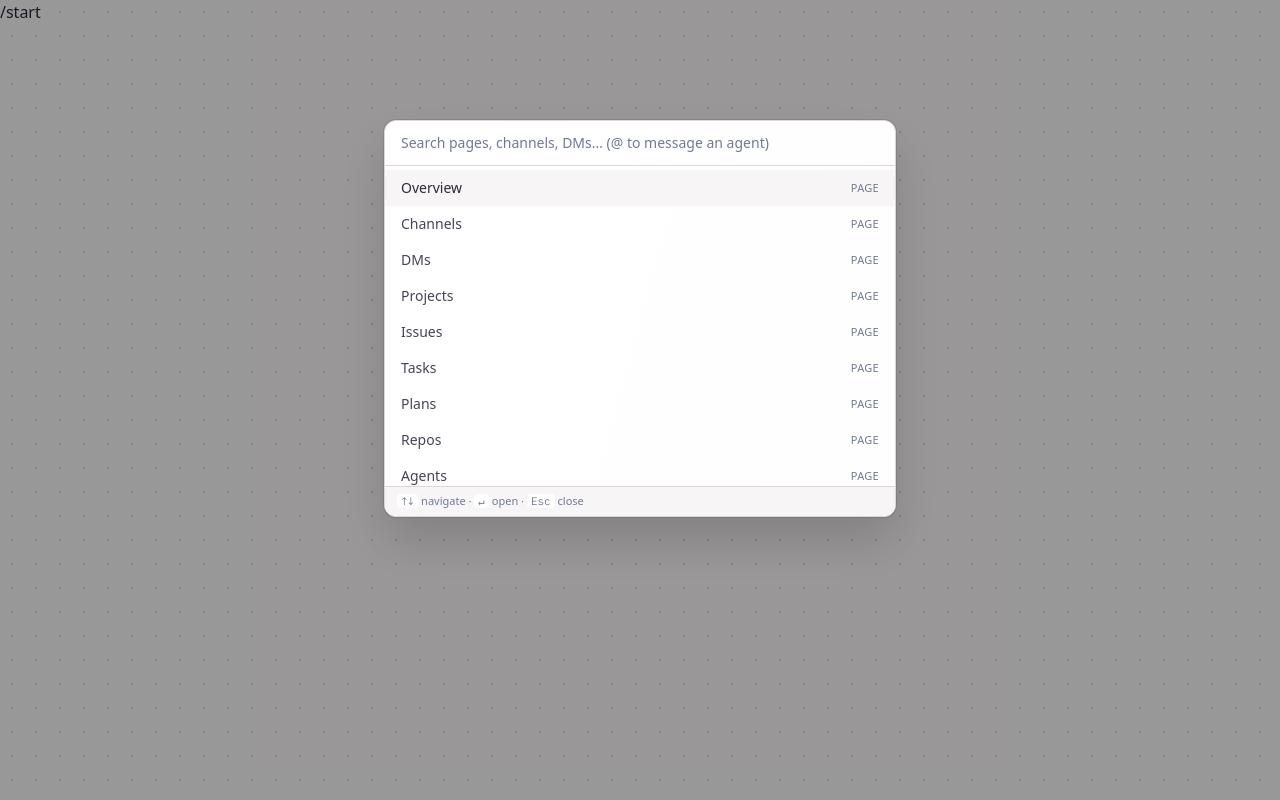
Test: CommandPalette org-scoped navigation (v2.8.1 fix) › leaves the path unchanged when there is no org context (orgPath no-op)
Type "channels" into the field with test id "palette-input". click: (640, 144)
box: [385,121,895,166]
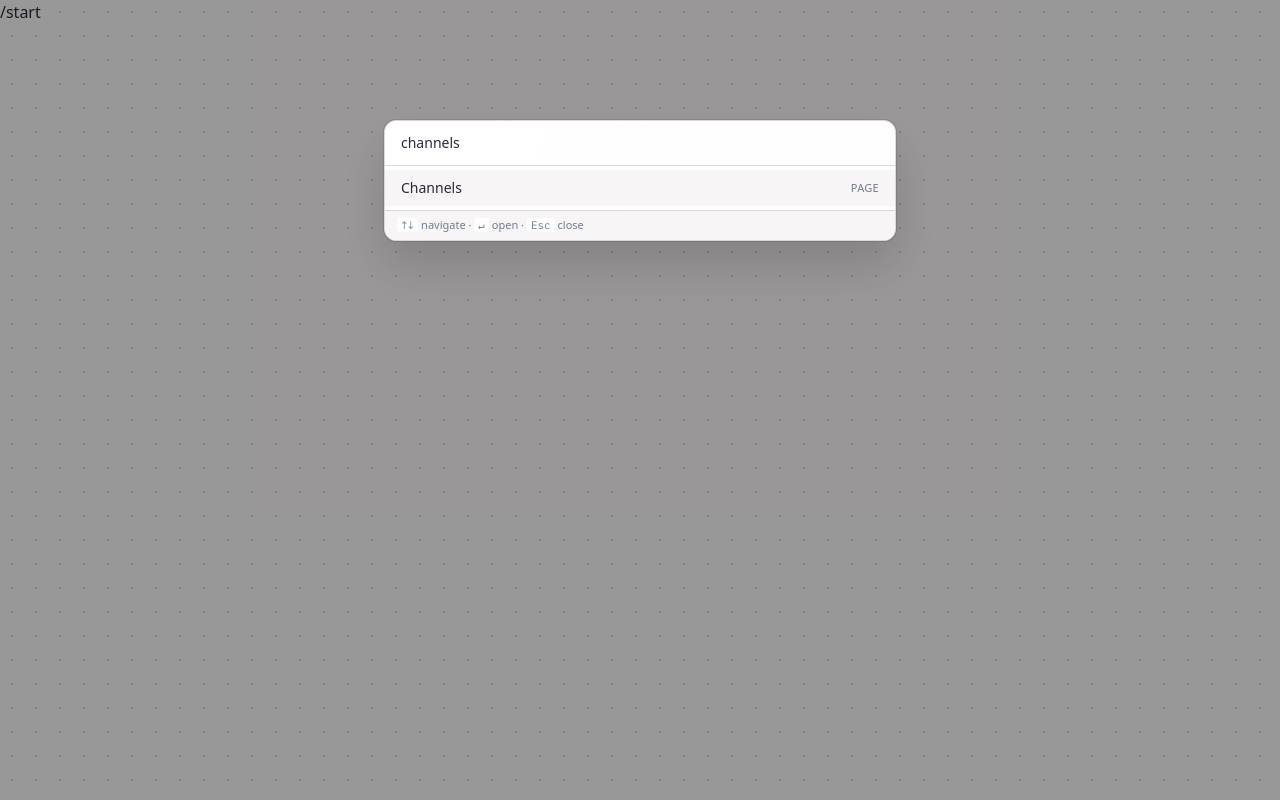
Press Enter in the field with test id "palette-input", box [385,121,895,166]
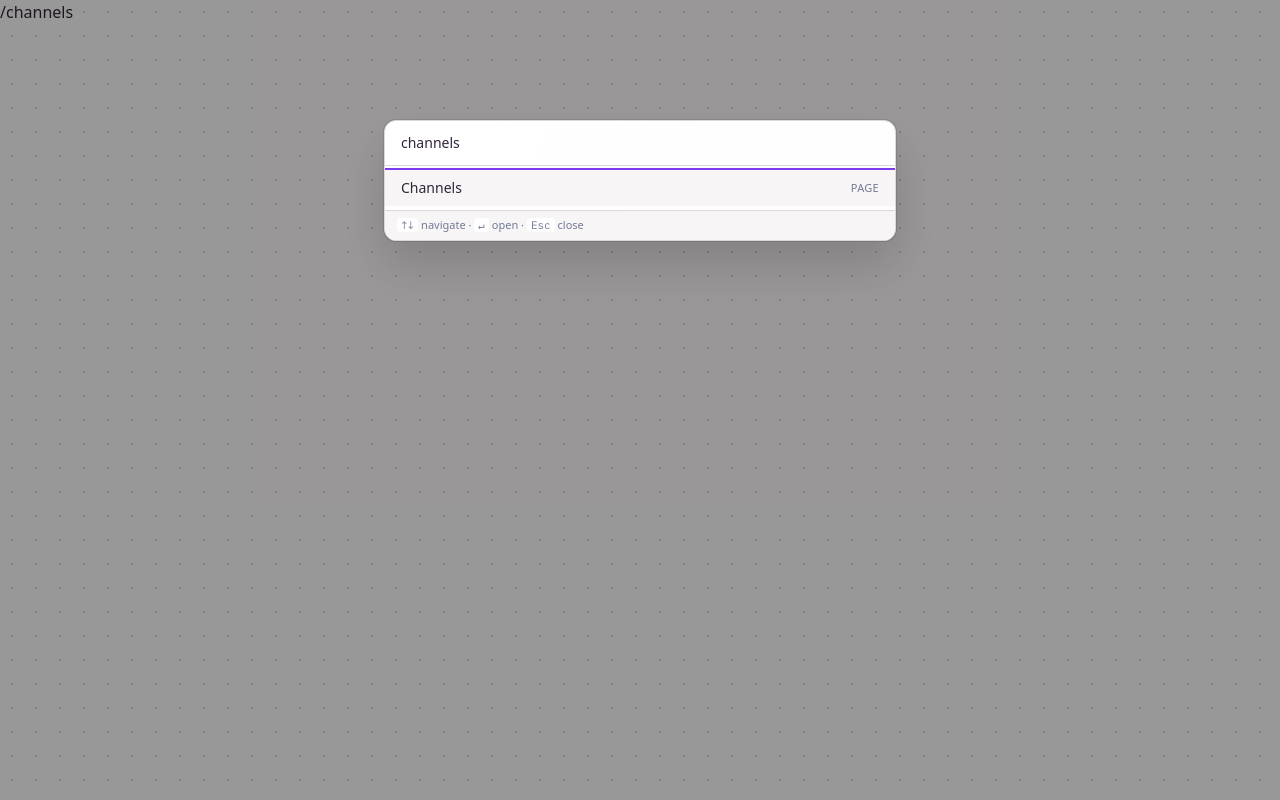
Expected: the text with test id "loc" reads "/channels", [0,1,73,23]
